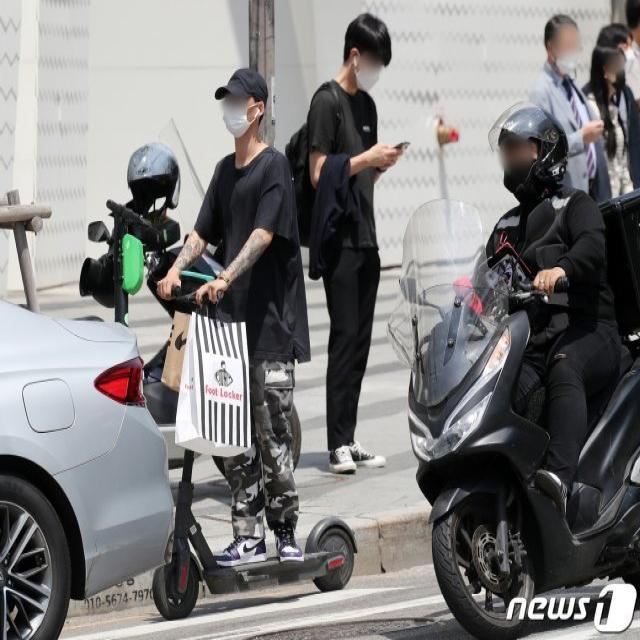non-helmet: (140, 62, 358, 623)
